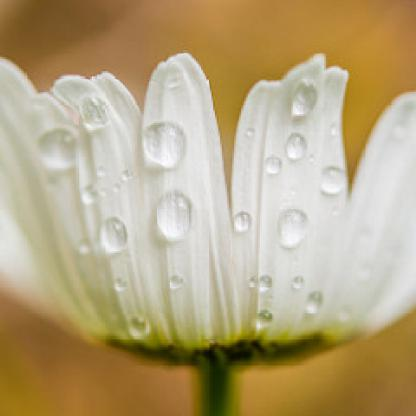ASTER: (3, 6, 415, 372)
